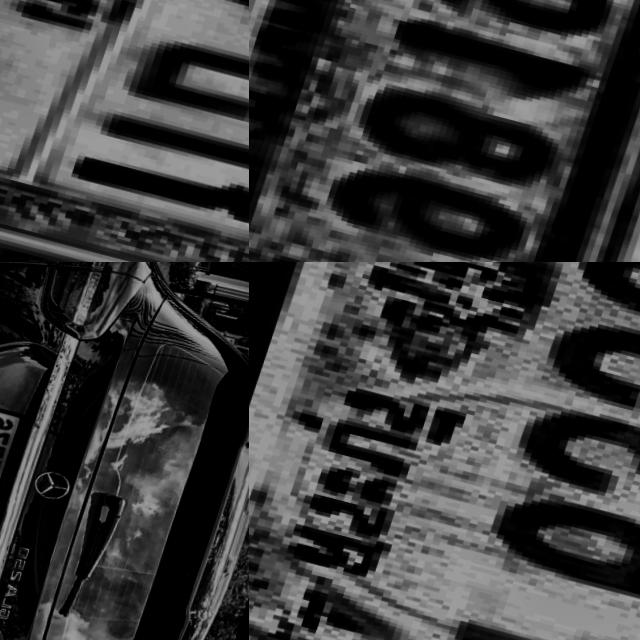license-plate: (249, 262, 640, 640), (249, 0, 640, 262), (0, 0, 249, 262), (0, 391, 36, 531)
